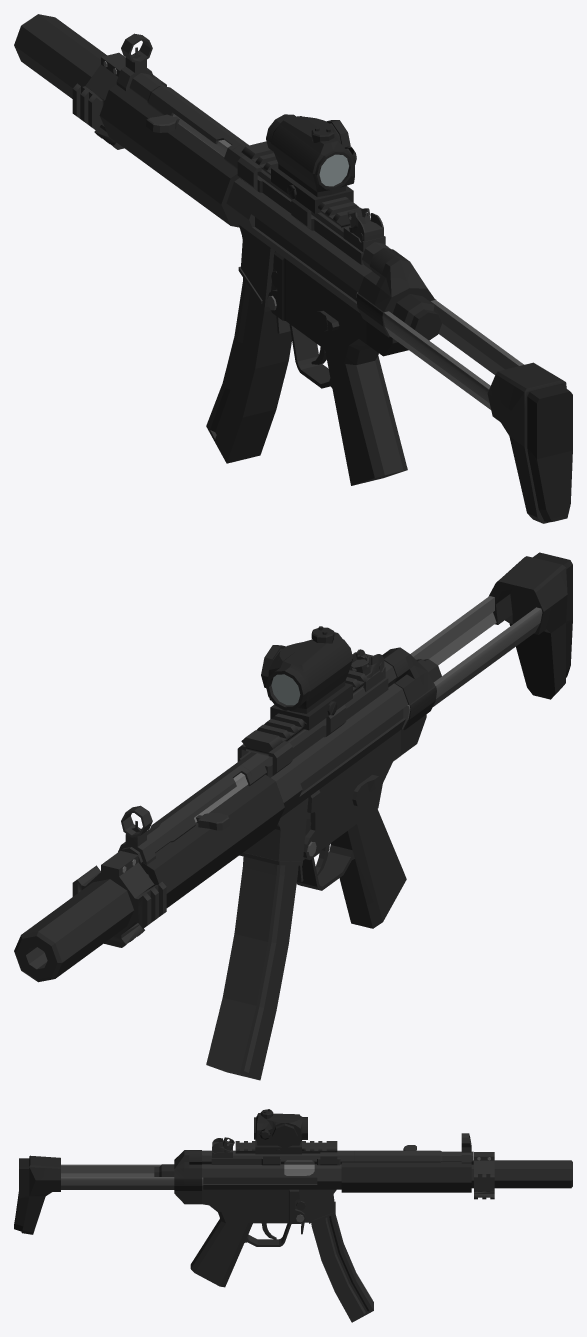
Rendered from Mpsd.glb.
3 renders of one model, top to bottom at view 1: azimuth 30°, elevation 25°; view 2: azimuth 150°, elevation 25°; view 3: azimuth 270°, elevation 25°, orthographic. The views are drawn at different scales.
Visible parts, largest first — view 1: body, Handguard_SD, Butt_Pad, Magazine, Pistol_Grip, Micro_T_1_Short, Stock_Collapsable, Arm_Left, Arm_Right, Piccatiny_Rail, Cylinder, Left_Bump_Mount (+5 smaller); view 2: body, Handguard_SD, Magazine, Butt_Pad, Pistol_Grip, Micro_T_1_Short, Arm_Left, Stock_Collapsable, Arm_Right, Piccatiny_Rail, Piccatiny_rail_SD_Barrel, Left_Bump_Mount (+4 smaller); view 3: body, Handguard_SD, Magazine, Pistol_Grip, Butt_Pad, Arm_Right, Stock_Collapsable, Arm_Left, Micro_T_1_Short, Piccatiny_Rail, Dial_Right, ejection_port (+4 smaller).
Part boxes in pixels (<box>): body: <box>129,73,390,364</box>; Handguard_SD: <box>14,14,239,227</box>; Butt_Pad: <box>487,362,572,523</box>; Magazine: <box>206,278,291,463</box>; Pistol_Grip: <box>289,324,407,485</box>; Micro_T_1_Short: <box>266,114,354,197</box>; Stock_Collapsable: <box>356,248,435,356</box>; Arm_Left: <box>356,292,490,409</box>; Arm_Right: <box>430,300,523,374</box>; Piccatiny_Rail: <box>241,141,367,228</box>; Cylinder: <box>392,294,441,340</box>; Left_Bump_Mount: <box>240,175,363,264</box>; body: <box>121,661,408,865</box>; Handguard_SD: <box>14,774,284,982</box>; Magazine: <box>206,856,298,1080</box>; Butt_Pad: <box>488,552,572,699</box>; Pistol_Grip: <box>296,809,406,928</box>; Micro_T_1_Short: <box>266,632,353,713</box>; Arm_Left: <box>402,607,542,729</box>; Stock_Collapsable: <box>382,647,436,755</box>; Arm_Right: <box>410,596,496,665</box>; Piccatiny_Rail: <box>241,670,367,755</box>; Piccatiny_rail_SD_Barrel: <box>85,851,153,934</box>; Left_Bump_Mount: <box>265,677,388,777</box>; body: <box>202,1150,473,1223</box>; Handguard_SD: <box>341,1160,572,1192</box>; Magazine: <box>311,1214,373,1322</box>; Pistol_Grip: <box>190,1218,291,1287</box>; Butt_Pad: <box>14,1155,60,1234</box>; Arm_Right: <box>61,1177,203,1189</box>; Stock_Collapsable: <box>174,1150,201,1204</box>; Arm_Left: <box>61,1164,160,1176</box>; Micro_T_1_Short: <box>254,1113,307,1145</box>; Piccatiny_Rail: <box>235,1141,337,1153</box>; Dial_Right: <box>272,1123,297,1148</box>; ejection_port: <box>284,1160,314,1175</box>.
Size of the model in its own units: 0.0237 by 0.1163 by 0.2836.
7 materials, 7 textured.
